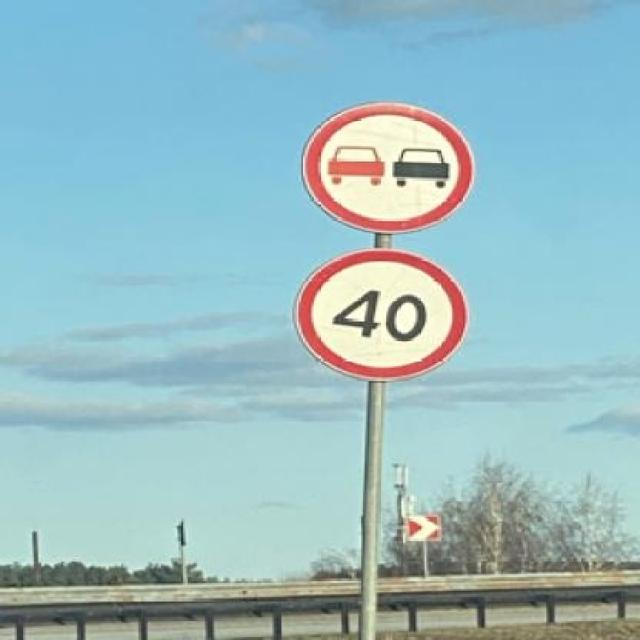forb_speed_over_40: (289, 248, 472, 384)
